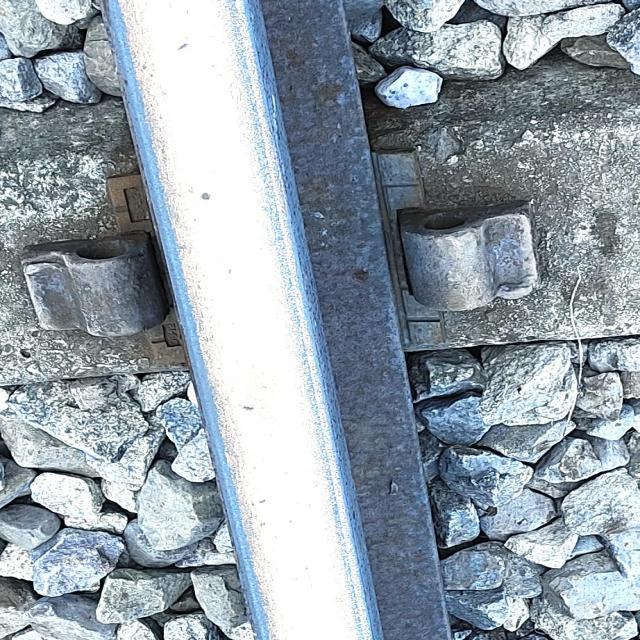Missing Fastener: (373, 177, 604, 330), (0, 217, 163, 348)
